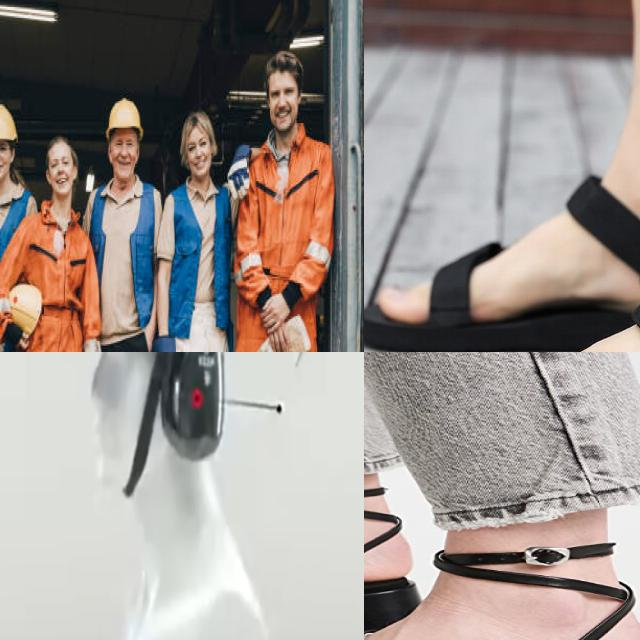Ear-protection: (167, 352, 223, 456)
No_Ear-Protection: (106, 144, 114, 164), (264, 92, 272, 112), (296, 83, 303, 105), (72, 162, 80, 180), (9, 146, 16, 164), (137, 144, 142, 164), (46, 169, 52, 185)
No_Glasses: (270, 84, 298, 98), (49, 158, 72, 170), (112, 139, 136, 149), (188, 141, 214, 150), (0, 145, 13, 157)
Sandals: (364, 222, 640, 352), (364, 528, 640, 640)
hand_noglove: (260, 293, 290, 352)
head_helmet: (106, 98, 142, 139), (0, 104, 18, 142)
head_nohelmet: (180, 111, 217, 168), (264, 51, 302, 97), (47, 136, 78, 176)
